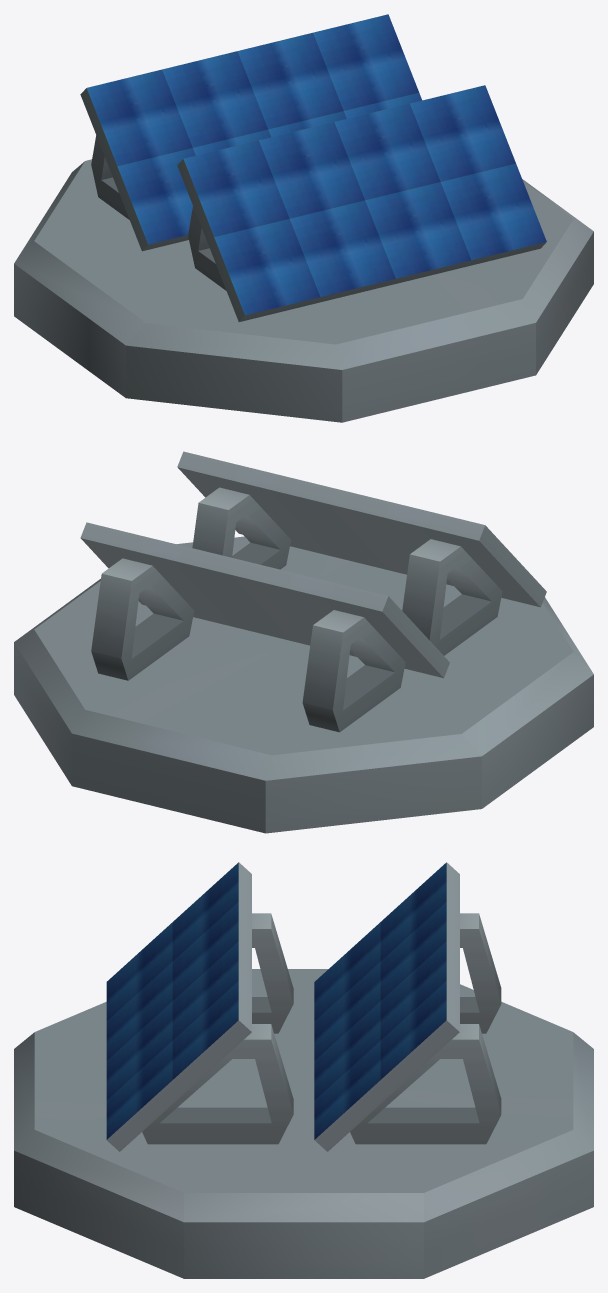
The model's file is roofmodule_solarpanels.glb.
The picture shows the model from 3 angles, top to bottom: view 1: azimuth 30°, elevation 25°; view 2: azimuth 150°, elevation 25°; view 3: azimuth 270°, elevation 25°; orthographic projection. The views are drawn at different scales.
Visible parts, largest first — view 1: roofmodule_solarpanels; view 2: roofmodule_solarpanels; view 3: roofmodule_solarpanels.
Boxes of the visible parts, box(x1,y1,x2,y2) form: roofmodule_solarpanels: box(14, 14, 593, 422); roofmodule_solarpanels: box(14, 451, 593, 833); roofmodule_solarpanels: box(14, 862, 593, 1278).
Bounding box in the file's own units: 1.4 × 0.571 × 1.4.
1 material, 1 textured.
